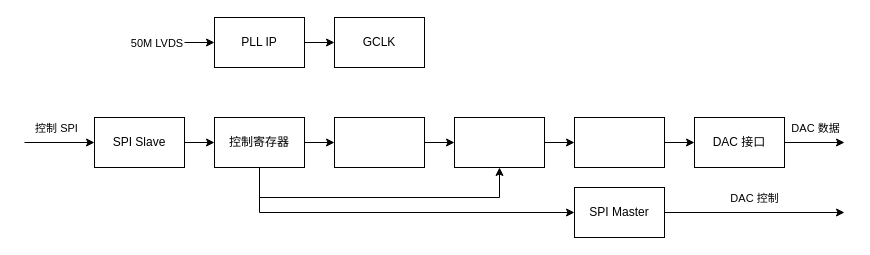
Some shapes in this 870 by 255 pixel diagram are drawn without their labels. Here are the shapes that lost their labels. From the top down, the centre of each, then its label:
At (x=379, y=142): "DDS II IP （正弦波）".
At (x=499, y=142): "幅度控制".
At (x=619, y=142): "异步 FIFO IP".
